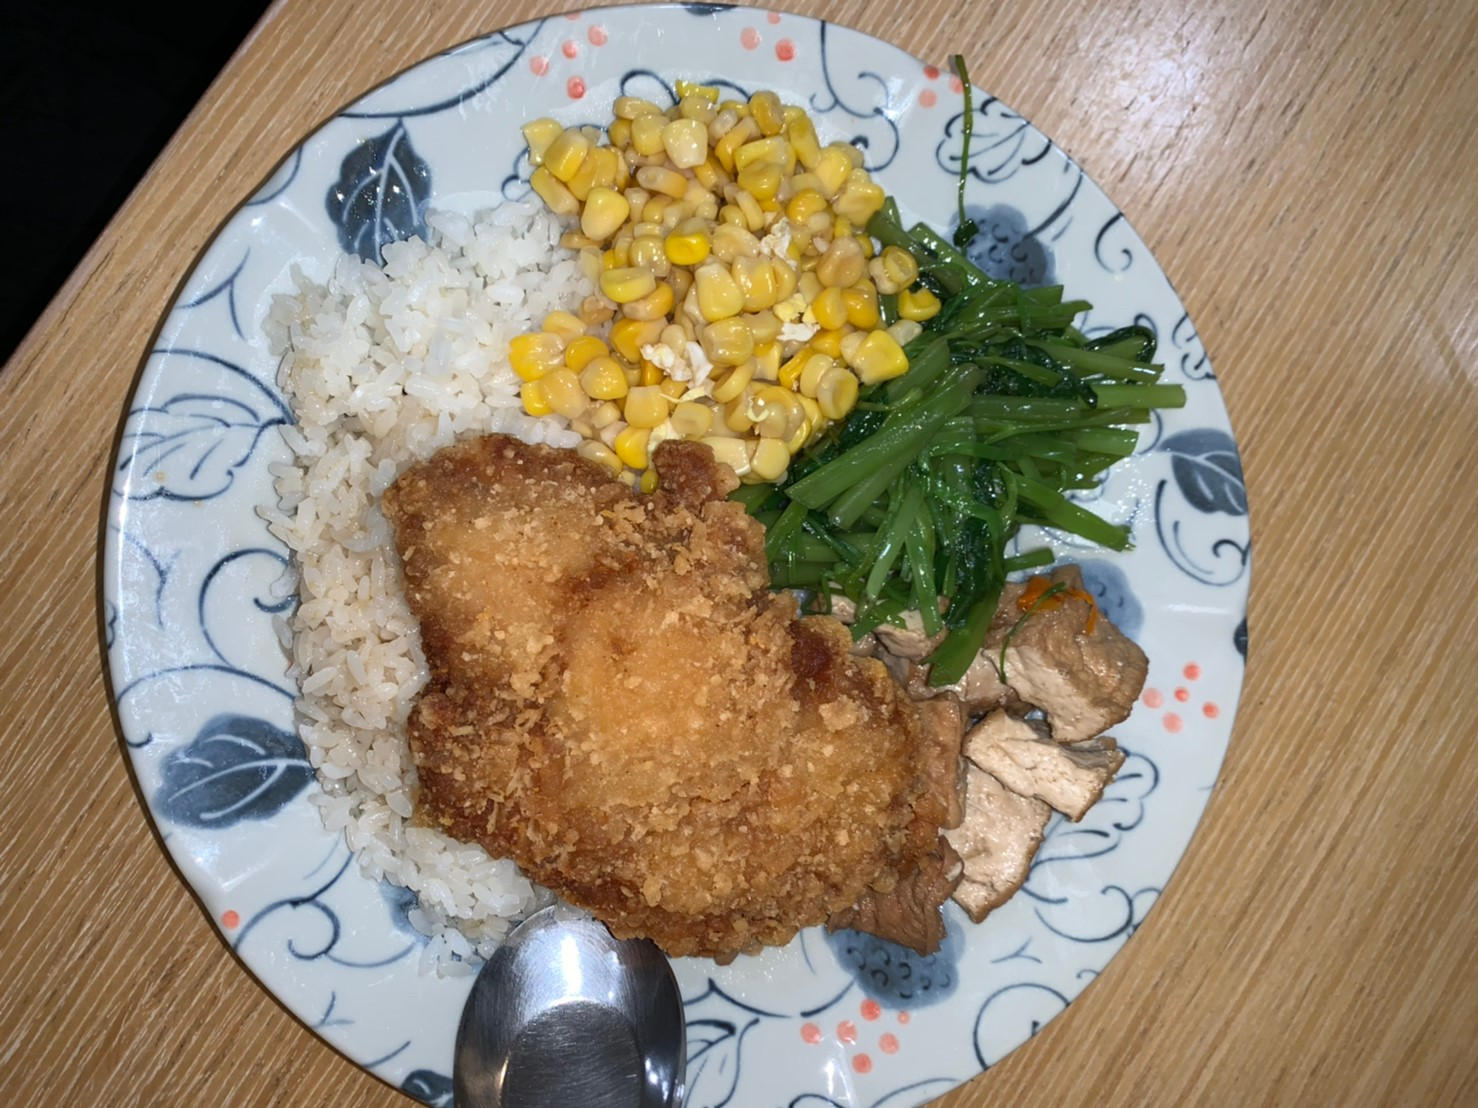fried_chicken: (375, 429, 944, 966)
rice: (267, 199, 575, 456)
water_spinach: (773, 264, 1116, 617)
